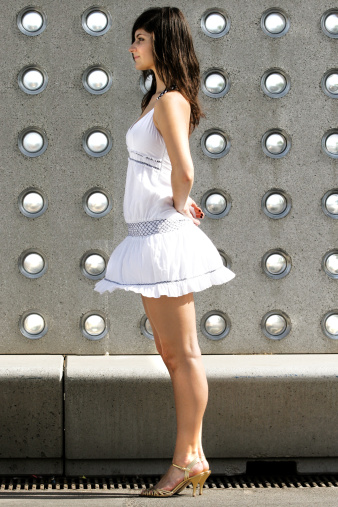em pe: (96, 0, 229, 501)
